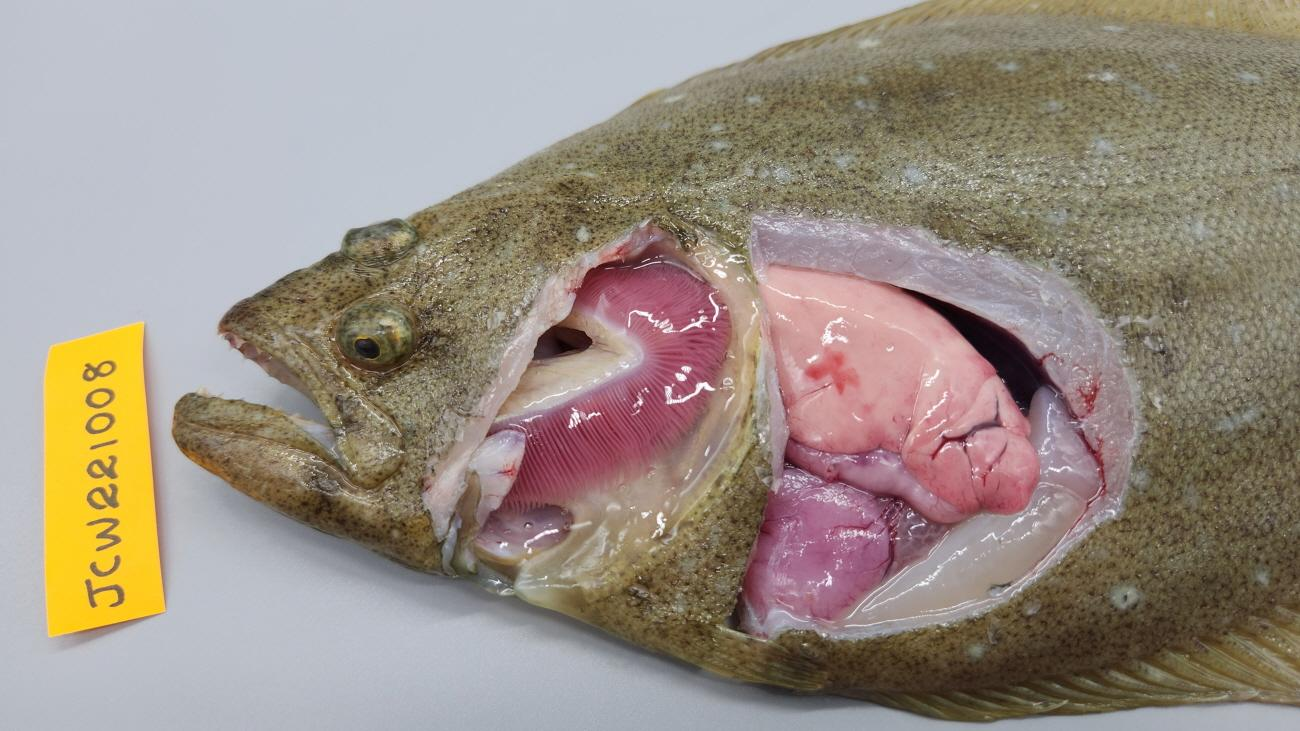POLIN: (758, 263, 1040, 518)
